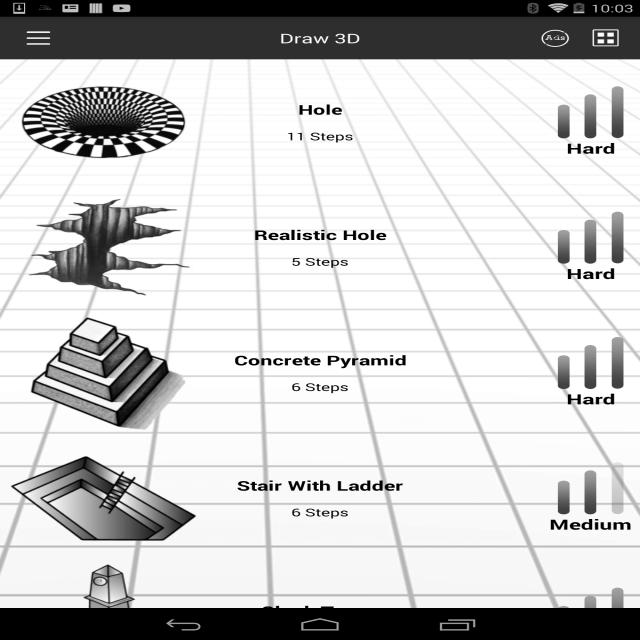ImageButton: (9, 19, 68, 57)
ImageView: (8, 62, 200, 182), (8, 188, 200, 308), (8, 312, 200, 432), (8, 438, 200, 558), (8, 563, 200, 640), (548, 86, 633, 139), (548, 211, 633, 264), (548, 462, 633, 515), (548, 587, 633, 640), (548, 337, 633, 389)
TextView: (148, 100, 492, 118), (148, 351, 492, 369), (148, 476, 492, 494), (148, 602, 492, 620), (148, 226, 492, 243), (148, 254, 492, 269), (148, 129, 492, 143), (148, 380, 492, 394), (148, 505, 492, 519), (580, 22, 632, 54), (550, 514, 632, 534), (529, 22, 580, 54), (280, 29, 360, 47), (566, 138, 615, 158), (566, 264, 615, 283), (566, 389, 615, 408)
